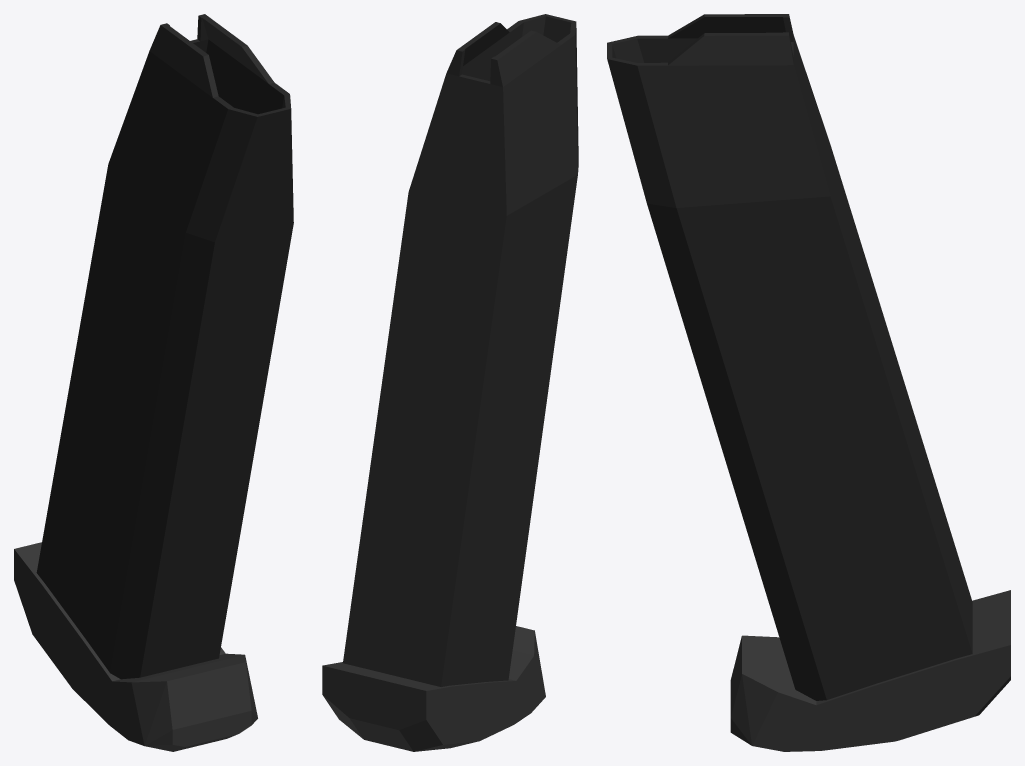
File: SM_FNX45_Magazine.fbx
The picture shows the model from 3 angles, left to right: view 1: azimuth 30°, elevation 25°; view 2: azimuth 150°, elevation 25°; view 3: azimuth 270°, elevation 25°; orthographic projection. The views are drawn at different scales.
Visible parts, largest first — view 1: SM_FNX45_Magazine; view 2: SM_FNX45_Magazine; view 3: SM_FNX45_Magazine.
Part boxes in pixels (x1,y1,x2,y2): SM_FNX45_Magazine: (14,14,293,751); SM_FNX45_Magazine: (322,14,578,751); SM_FNX45_Magazine: (607,14,1010,751).
Bounding box in the file's own units: 2.4 × 14.51 × 7.44.
